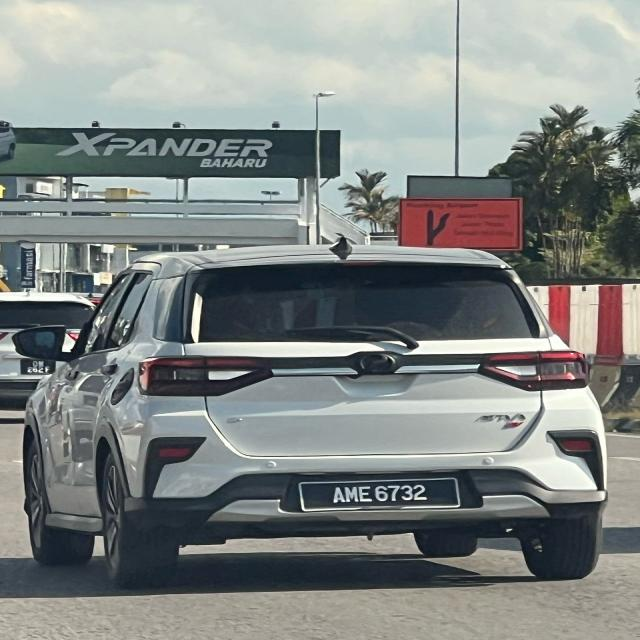PeroduaAtiva: (12, 235, 610, 589)
